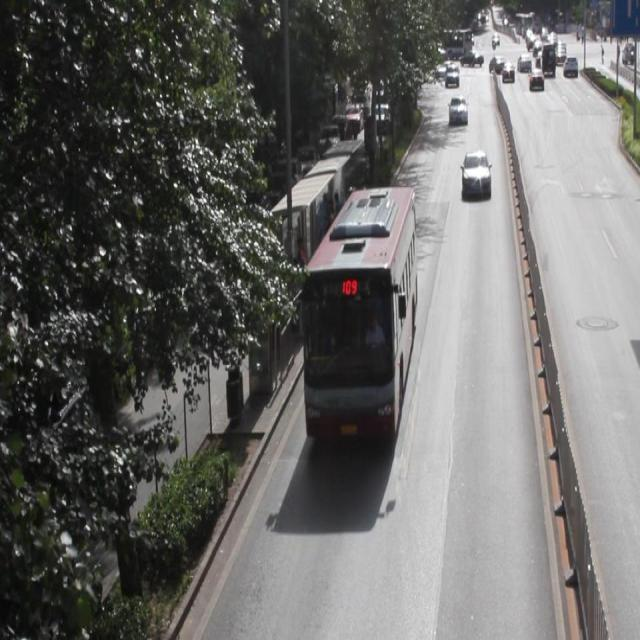car: (461, 150, 488, 194), (447, 96, 465, 124)
van: (303, 184, 413, 436)
